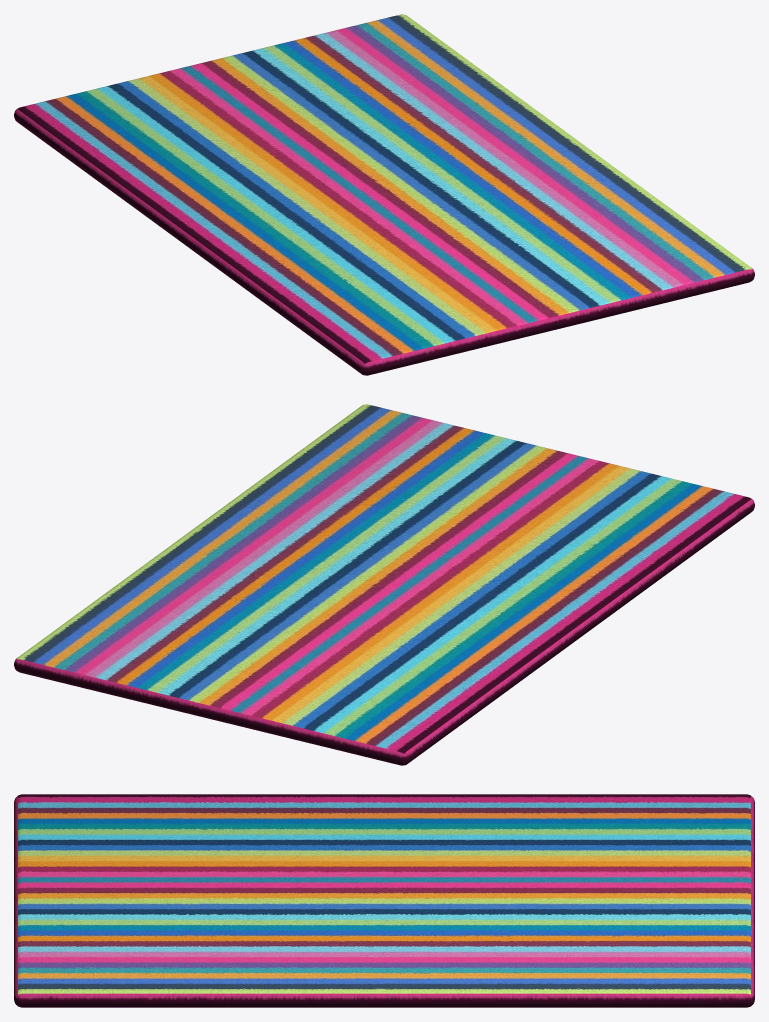
Rendered from recOSK8d40QKgrbrc.glb.
3 views of the same model, one above another, from view 1: azimuth 30°, elevation 25°; view 2: azimuth 150°, elevation 25°; view 3: azimuth 270°, elevation 25° (orthographic). The views are drawn at different scales.
Parts seen in each view (by area): view 1: Tapis_Bain_Corps; view 2: Tapis_Bain_Corps; view 3: Tapis_Bain_Corps.
Boxes of the visible parts, x1,y1,x2,y2 form: Tapis_Bain_Corps: (14,14,754,375); Tapis_Bain_Corps: (14,404,754,765); Tapis_Bain_Corps: (14,794,754,1007).
Size of the model in its own units: 0.55 by 0.02 by 0.85.
1 material, 1 textured.
